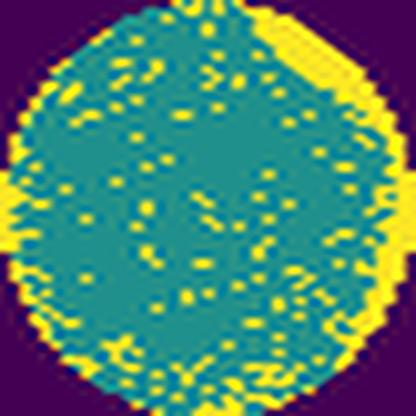Edge-Loc: (190, 0, 416, 370), (0, 73, 92, 381), (186, 379, 290, 416)
